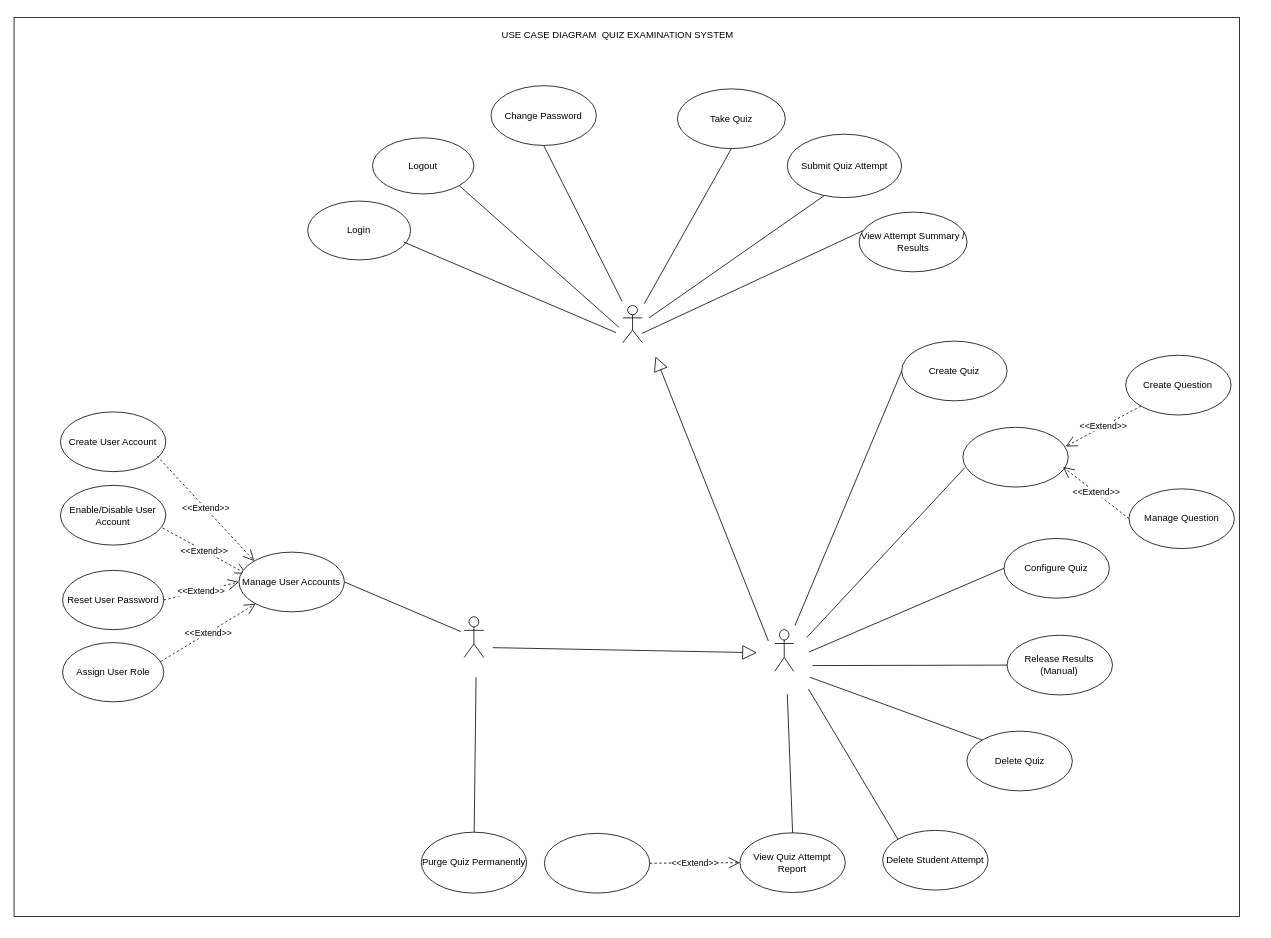
Some shapes in this 1271 by 938 pixel diagram are drawn without their labels. The shapes that lost their labels are listed below. From the top down, each one's centre as x and y in pixels, then its label:
At pixel 632 324: "Student".
At pixel 1015 457: "Manage Question Bank".
At pixel 473 637: "Admin".
At pixel 784 650: "Teacher".
At pixel 597 863: "Export Report to CSV".
